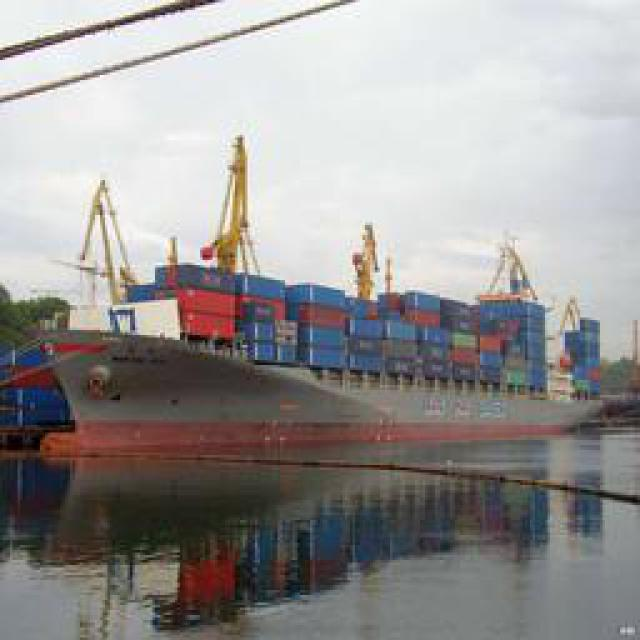Ship: (25, 129, 608, 469)
